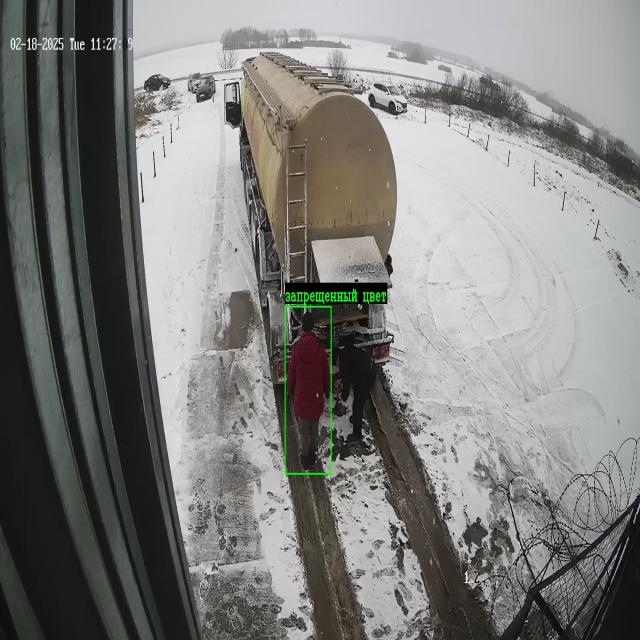Person: (339, 340, 377, 442)
Red uniform: (287, 312, 330, 470)
